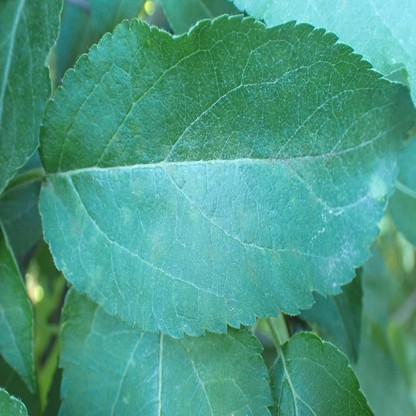powdery_mildew: (324, 234, 356, 289), (310, 209, 343, 243)
scab: (182, 330, 258, 416), (170, 284, 210, 330), (88, 265, 105, 289), (370, 175, 386, 199), (120, 207, 131, 226), (361, 235, 373, 252), (305, 268, 313, 290), (237, 206, 245, 227), (113, 137, 121, 156), (154, 238, 160, 258), (208, 242, 214, 261), (91, 232, 99, 246), (72, 219, 79, 233), (249, 264, 255, 278), (273, 252, 278, 263), (194, 202, 198, 214), (291, 198, 295, 206)
